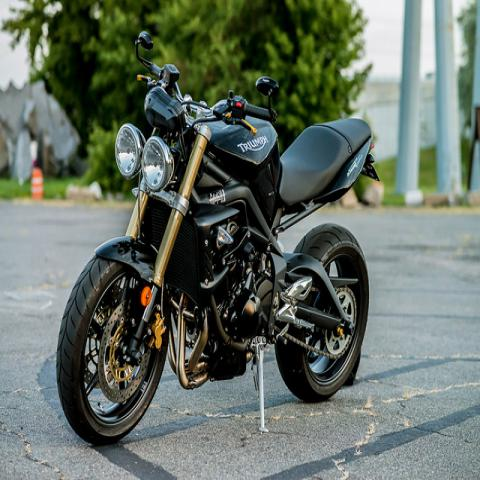motorcycle: (53, 32, 384, 446)
